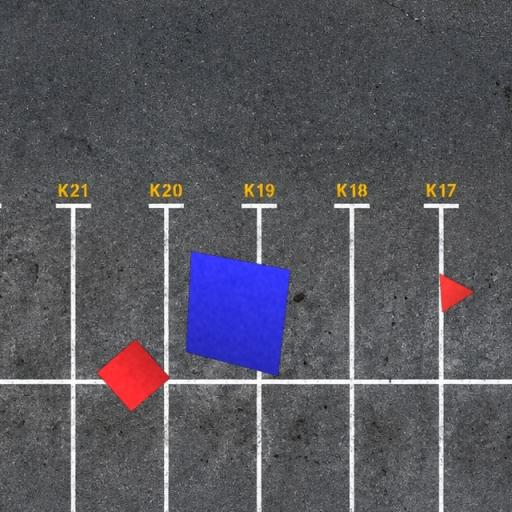BLUE_SQUARE: (185, 250, 291, 377)
RED_SQUARE: (96, 338, 171, 413)
